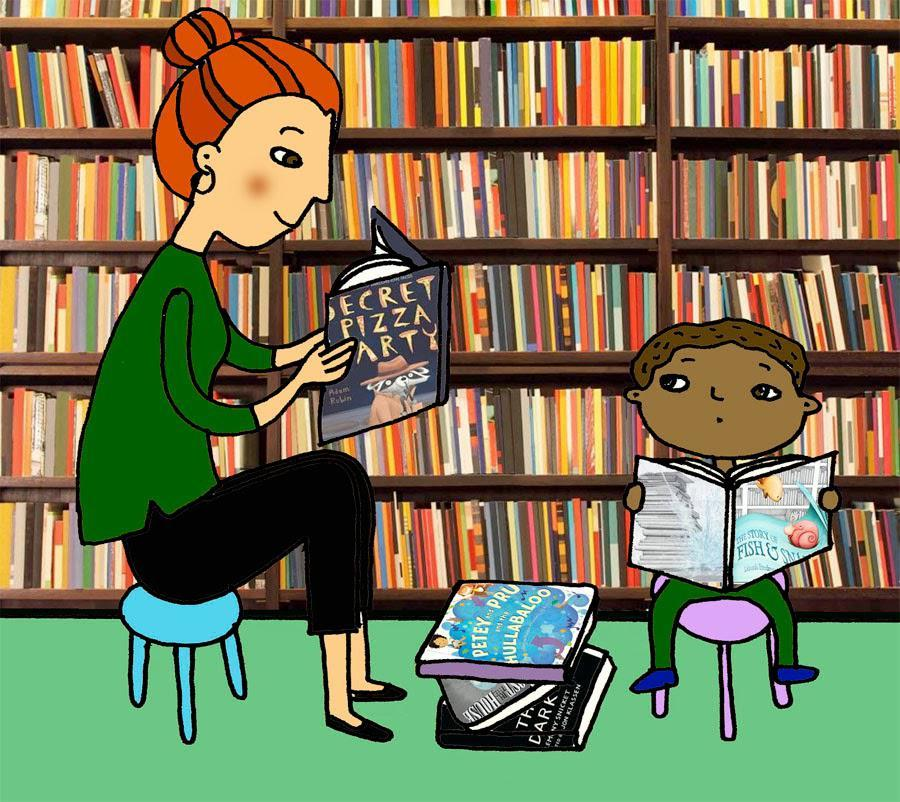chair: (645, 560, 808, 745), (119, 580, 256, 746)
person: (71, 7, 413, 746), (620, 319, 831, 690)
